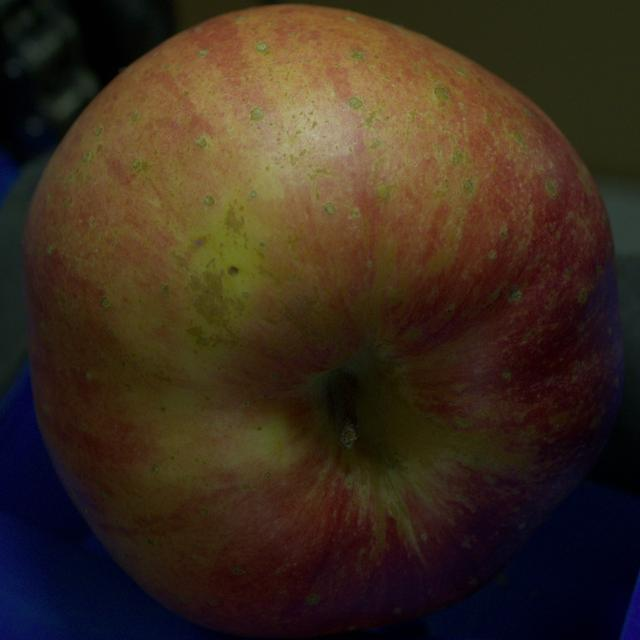apple: (23, 5, 623, 636)
pest: (228, 266, 238, 274)
